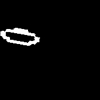chain: (1, 28, 38, 45)
